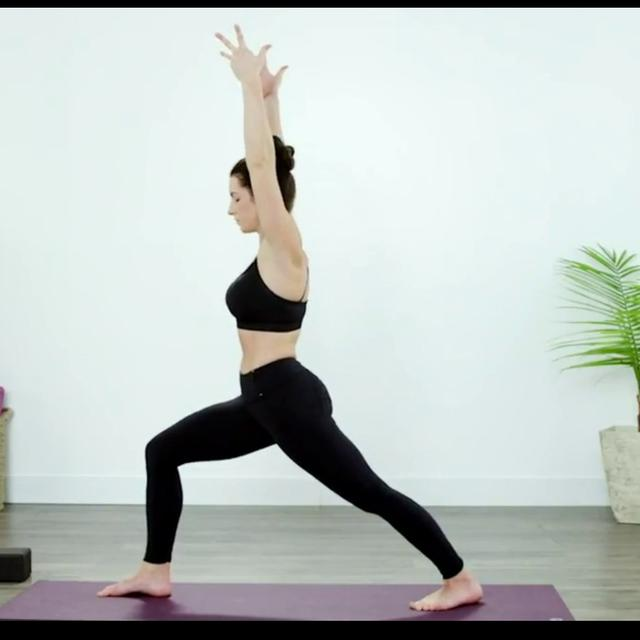Warrior_I: (87, 13, 493, 614)
